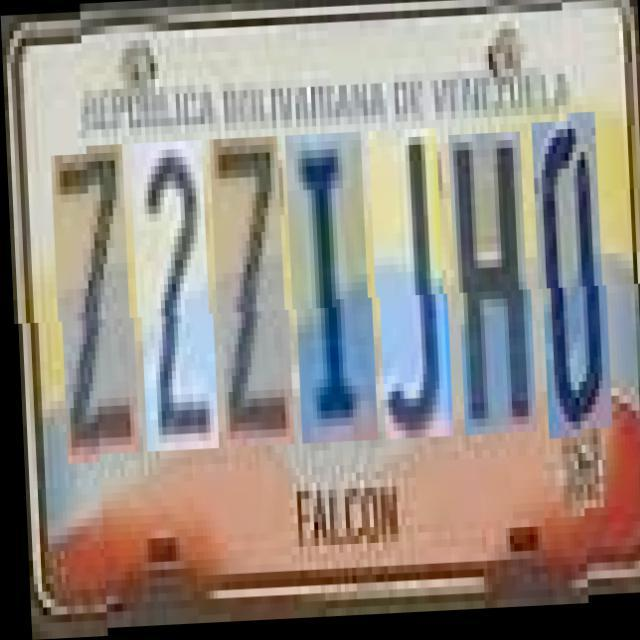0: (534, 126, 609, 444)
2: (133, 142, 215, 453)
H: (451, 137, 533, 440)
I: (287, 136, 373, 447)
J: (371, 132, 449, 443)
Z: (53, 145, 135, 456), (212, 138, 290, 450)
